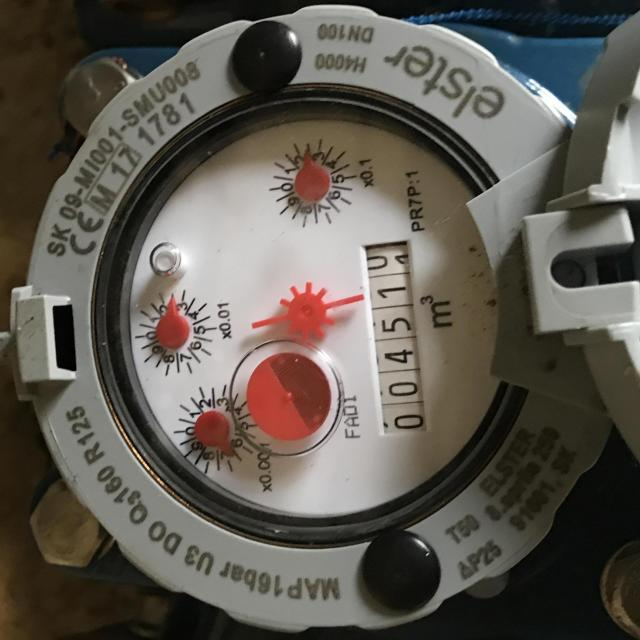gaz_meter: (10, 5, 640, 636)
indication: (364, 242, 429, 436)
